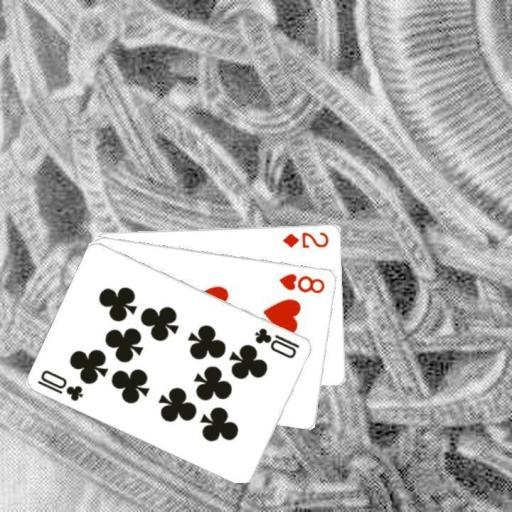card-corner: (34, 366, 85, 403), (252, 324, 302, 360), (276, 270, 326, 295), (280, 228, 331, 249)
